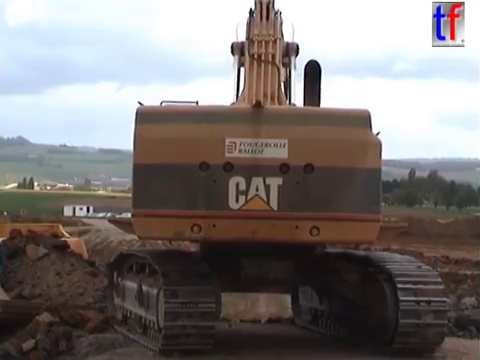excavator: (104, 1, 453, 360)
truck: (1, 219, 121, 360)
